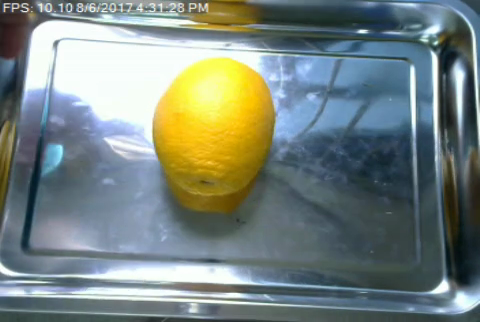Orange: (152, 58, 277, 195)
